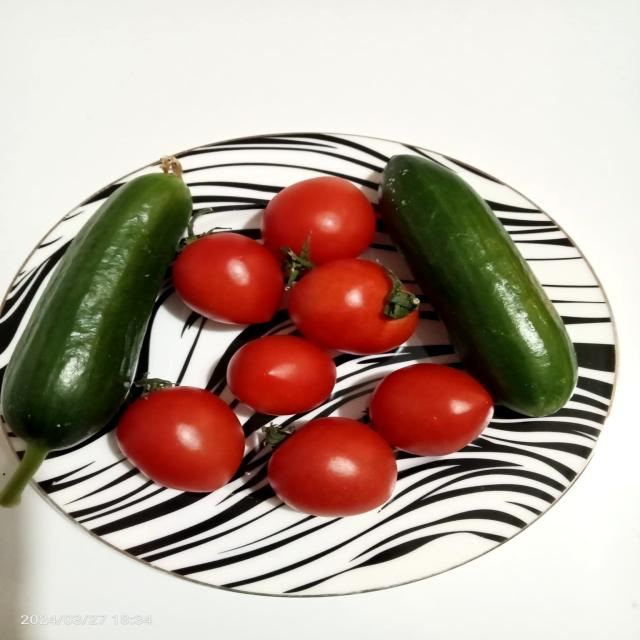cucumber: (0, 159, 198, 490), (380, 146, 620, 417)
tomato: (100, 369, 258, 496), (242, 409, 415, 517), (249, 163, 393, 273), (296, 249, 436, 356), (164, 224, 300, 325), (214, 324, 353, 422), (364, 360, 498, 454)
